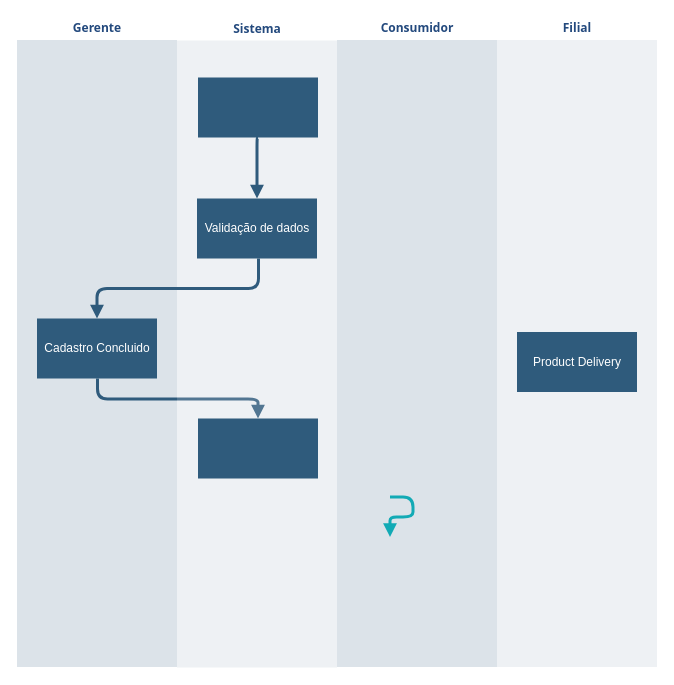
Some shapes in this 674 by 685 pixel diagram are drawn without their labels. Each missing label, with the centre of its shape:
Avisar sistema que o cadastro foi concluído: [258,448]
Solicitar dados (Nome,CPF Filial, Senha): [258,107]
